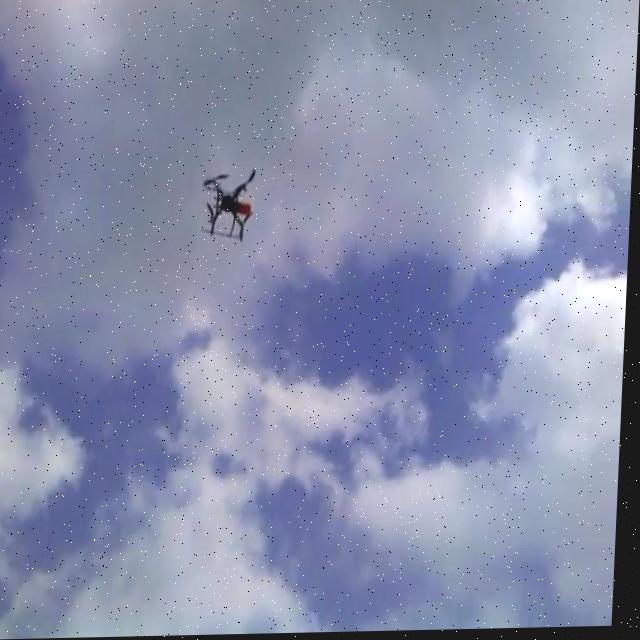drone: (201, 165, 260, 249)
